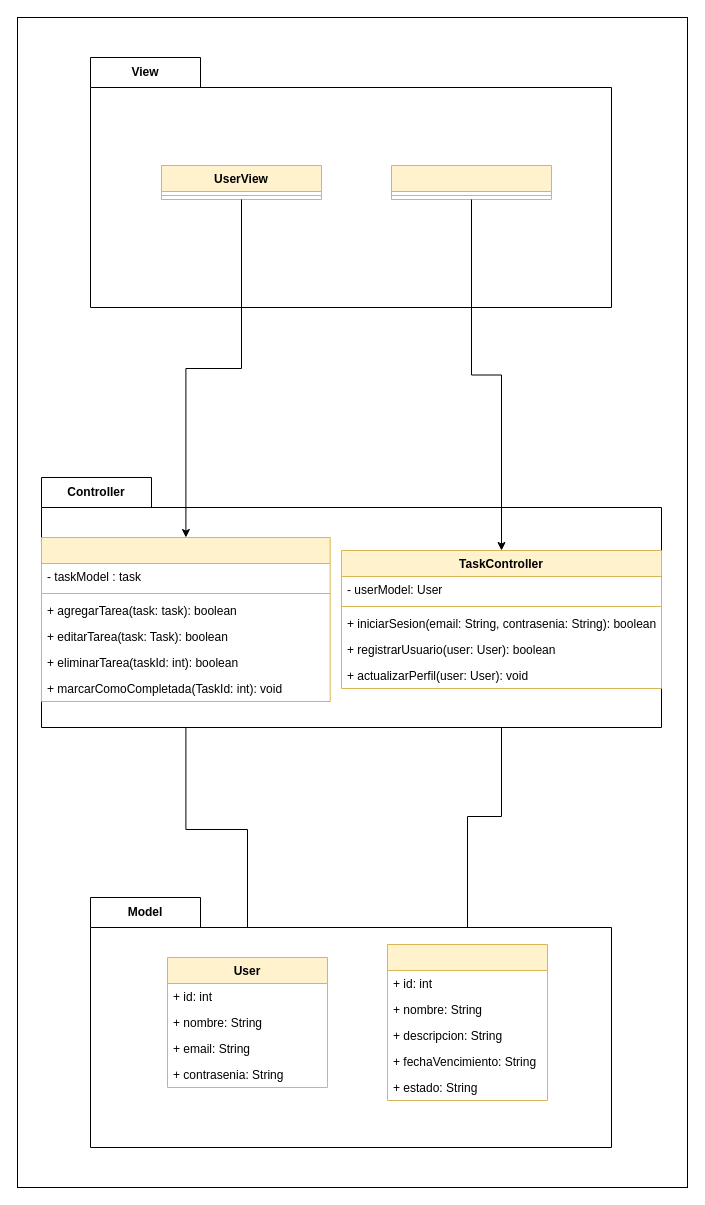
Image size: 705x1205. Some labels were removed from this diagram. Here are the shapes that lost their labels. From the top down, the box of each, then its label:
(390, 164, 552, 200): TaskView
(40, 536, 330, 702): UserController
(386, 944, 548, 1100): Task
